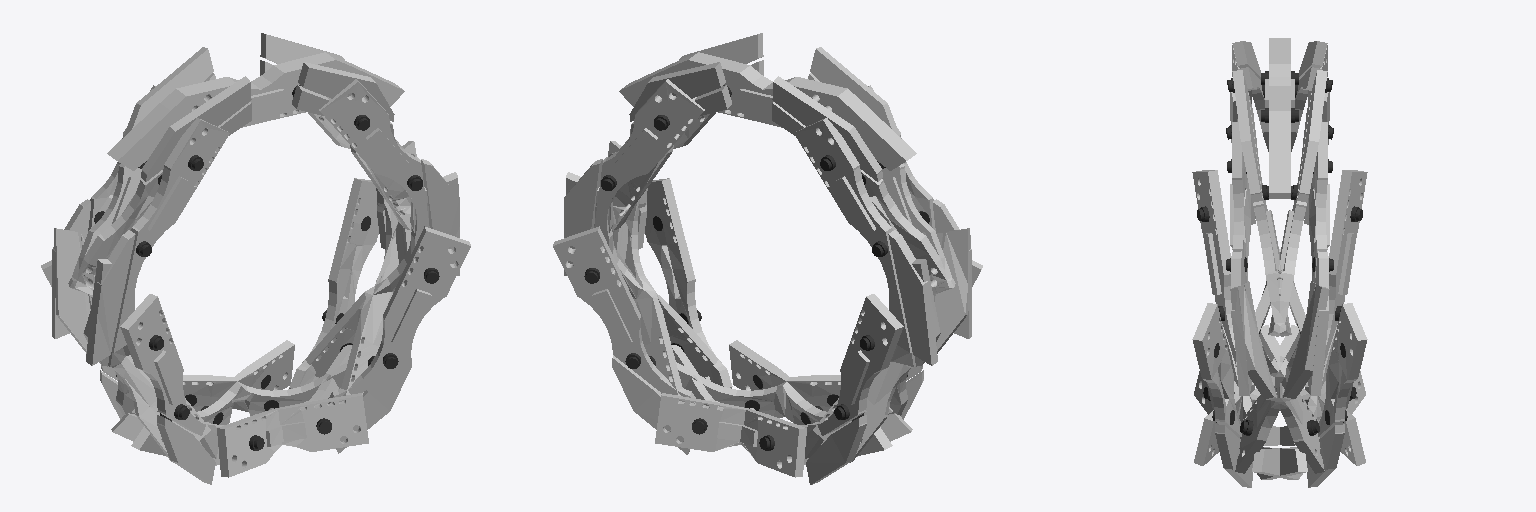
File: Gate.obj
3 views of the same model, side by side, from view 1: azimuth 30°, elevation 25°; view 2: azimuth 150°, elevation 25°; view 3: azimuth 270°, elevation 25° (orthographic).
Parts seen in each view (by area): view 1: Gate, Parts; view 2: Gate, Parts; view 3: Gate, Parts.
Boxes of the visible parts, x1,y1,x2,y2 form: Gate: [41, 33, 470, 484]; Parts: [94, 85, 439, 450]; Gate: [553, 33, 982, 484]; Parts: [584, 85, 929, 450]; Gate: [1192, 38, 1367, 487]; Parts: [1197, 71, 1362, 435].
Bounding box in the file's own units: 23.47 × 24.19 × 9.57.